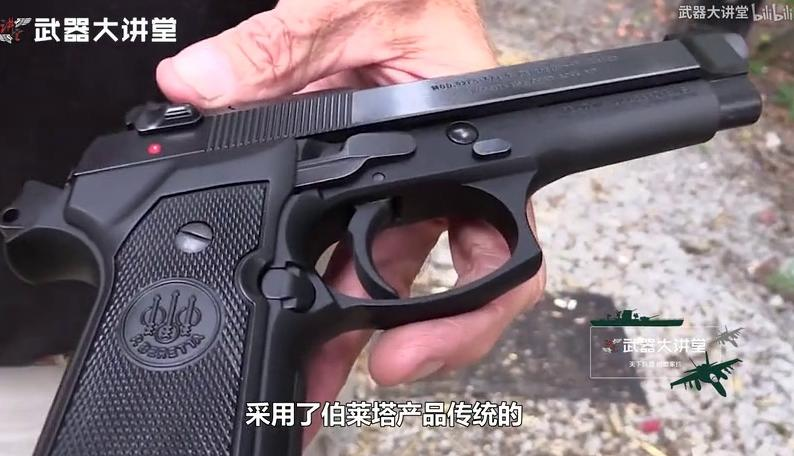gun: (1, 0, 794, 456)
